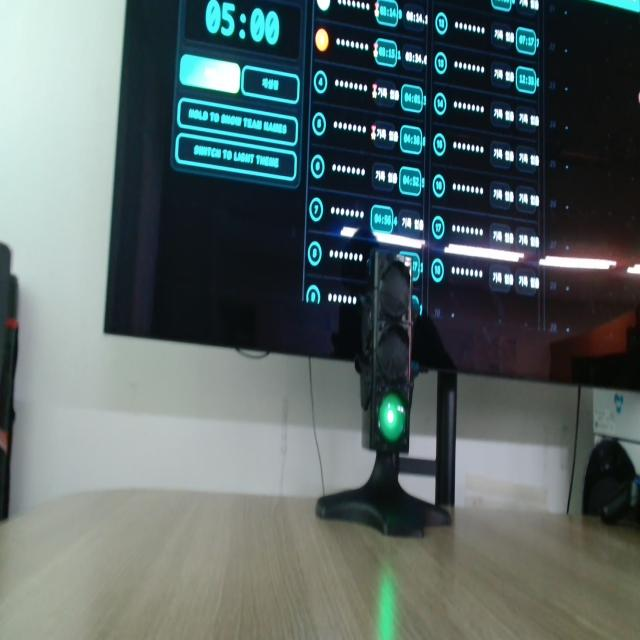green_light: (379, 393, 406, 442)
